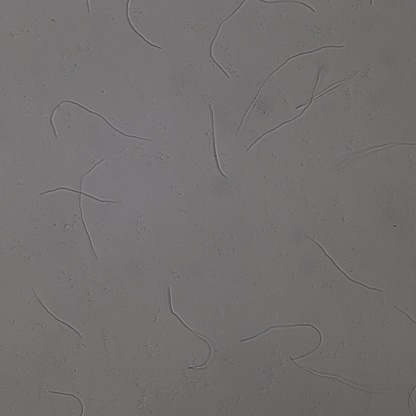Sensitive: (239, 45, 343, 127), (39, 159, 120, 260), (252, 69, 323, 149), (306, 235, 382, 292), (47, 101, 153, 141), (168, 285, 215, 370), (240, 323, 336, 358), (207, 1, 247, 80), (31, 289, 82, 339), (294, 73, 356, 107), (120, 1, 161, 50), (206, 103, 229, 179), (49, 389, 85, 416), (260, 1, 317, 14)
